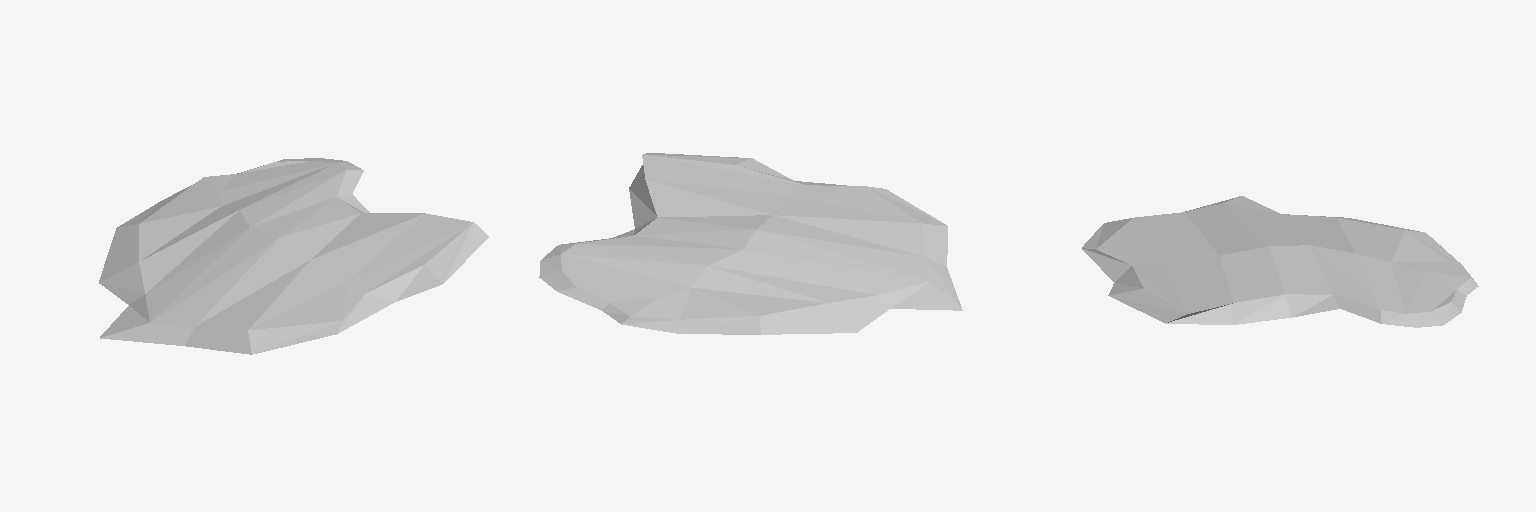
File: SandPlateau.obj
3 views of the same model, side by side, from view 1: azimuth 30°, elevation 25°; view 2: azimuth 150°, elevation 25°; view 3: azimuth 270°, elevation 25° (orthographic).
Parts seen in each view (by area): view 1: SandPlateau; view 2: SandPlateau; view 3: SandPlateau.
Part boxes in pixels (x1,y1,x2,y2): SandPlateau: (99, 158, 488, 354); SandPlateau: (539, 153, 962, 334); SandPlateau: (1082, 196, 1478, 327).
Size of the model in its own units: 375 by 52.06 by 366.